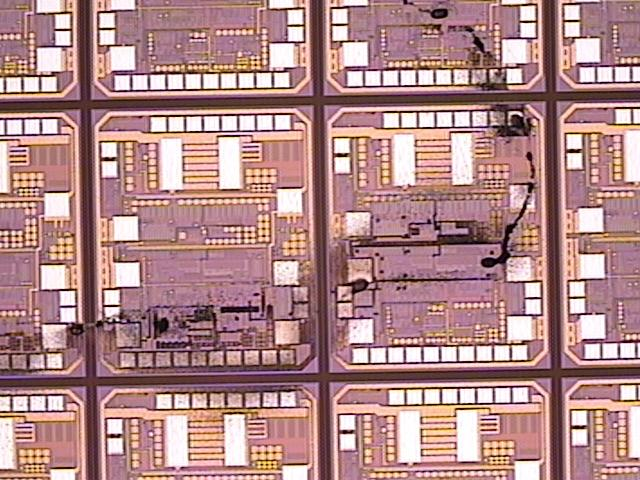PO CONTAMINATION: (1, 1, 547, 371)
